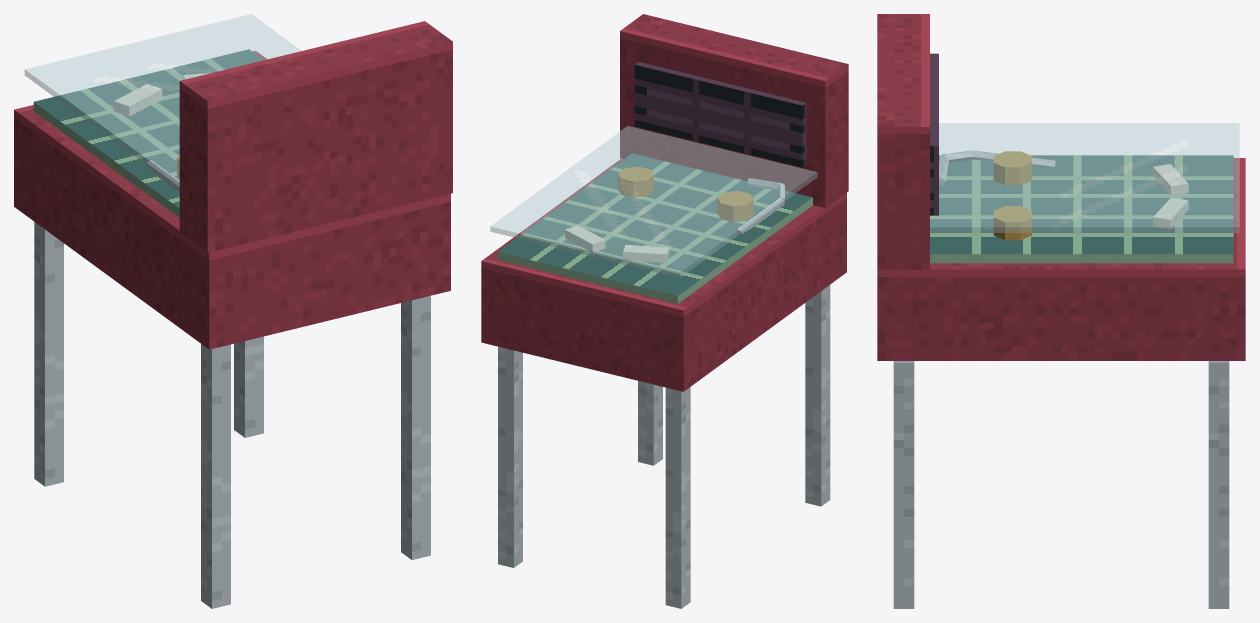
Rendered from f_pinball_machine.glb.
The picture shows the model from 3 angles, left to right: view 1: azimuth 30°, elevation 25°; view 2: azimuth 150°, elevation 25°; view 3: azimuth 270°, elevation 25°; orthographic projection. The views are drawn at different scales.
Visible parts, largest first — view 1: block_backbox, block_cabinet, block_glass-cover, block_playfield, block_leg--0.269-0.389, block_leg-0.269-0.389, block_leg--0.269--0.389, block_leg-0.269--0.389, block_flipper-paddle; view 2: block_cabinet, block_glass-cover, block_playfield, block_backbox, block_scoreboard, block_leg--0.269--0.389, block_leg--0.269-0.389, block_leg-0.269--0.389, block_leg-0.269-0.389, block_flipper-paddle (×2), block_bumper--0.16, block_bumper-0.16; view 3: block_cabinet, block_glass-cover, block_playfield, block_backbox, block_leg-0.269--0.389, block_leg-0.269-0.389, block_flipper-paddle (×2), block_scoreboard, block_bumper-0.16, block_bumper--0.16.
Part boxes in pixels (left/top/right/bottom): block_backbox: left=179, top=21, right=452, bottom=252; block_cabinet: left=14, top=50, right=450, bottom=349; block_glass-cover: left=24, top=14, right=301, bottom=188; block_playfield: left=33, top=49, right=263, bottom=217; block_leg--0.269-0.389: left=201, top=344, right=230, bottom=608; block_leg-0.269-0.389: left=401, top=295, right=430, bottom=559; block_leg--0.269--0.389: left=34, top=222, right=63, bottom=486; block_leg-0.269--0.389: left=234, top=336, right=263, bottom=437; block_flipper-paddle: left=114, top=84, right=162, bottom=116; block_cabinet: left=481, top=158, right=846, bottom=391; block_glass-cover: left=490, top=126, right=817, bottom=277; block_playfield: left=497, top=153, right=812, bottom=303; block_backbox: left=620, top=14, right=848, bottom=207; block_scoreboard: left=634, top=61, right=806, bottom=167; block_leg--0.269--0.389: left=665, top=387, right=690, bottom=608; block_leg--0.269-0.389: left=805, top=285, right=830, bottom=506; block_leg-0.269--0.389: left=498, top=346, right=522, bottom=567; block_leg-0.269-0.389: left=638, top=381, right=662, bottom=465; block_flipper-paddle (×2): left=565, top=225, right=669, bottom=262; block_bumper--0.16: left=717, top=191, right=753, bottom=221; block_bumper-0.16: left=617, top=166, right=653, bottom=197; block_cabinet: left=877, top=158, right=1245, bottom=360; block_glass-cover: left=930, top=123, right=1239, bottom=232; block_playfield: left=930, top=155, right=1233, bottom=263; block_backbox: left=877, top=14, right=929, bottom=269; block_leg-0.269--0.389: left=1208, top=361, right=1229, bottom=608; block_leg-0.269-0.389: left=893, top=361, right=914, bottom=608; block_flipper-paddle (×2): left=1153, top=164, right=1188, bottom=229; block_scoreboard: left=930, top=53, right=938, bottom=215; block_bumper-0.16: left=993, top=206, right=1031, bottom=240; block_bumper--0.16: left=993, top=151, right=1031, bottom=185.
Bounding box in the file's own units: 0.66 × 1.33 × 0.91.
Materials: 2 (2 with a texture image).
